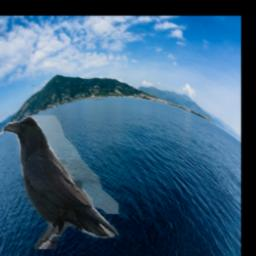Crow: (2, 116, 119, 250)
